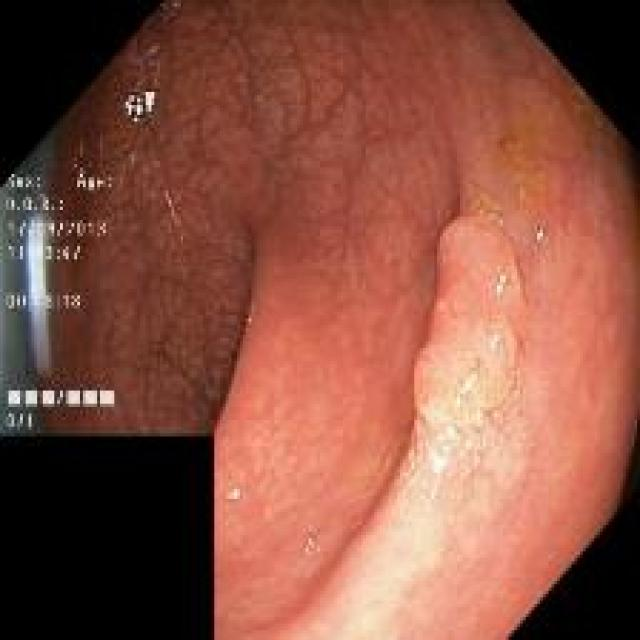Polyps: (415, 215, 526, 427)
